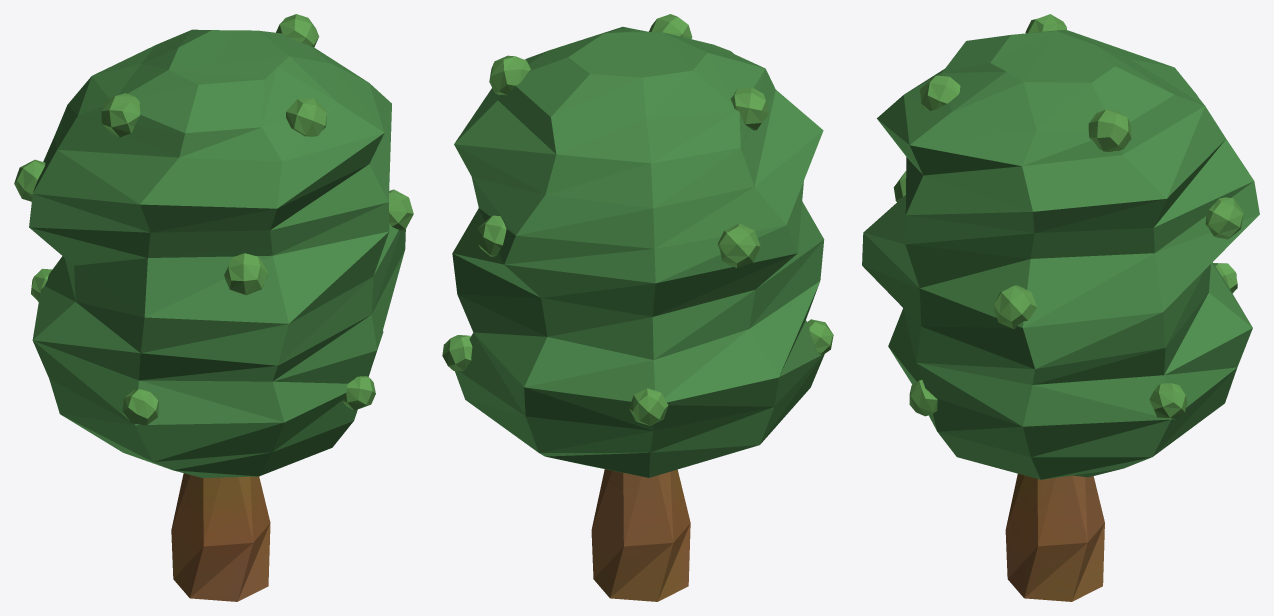
File: tree_c_764.gltf
3 renders of one model, left to right at view 1: azimuth 30°, elevation 25°; view 2: azimuth 150°, elevation 25°; view 3: azimuth 270°, elevation 25°, orthographic.
Visible parts, largest first — view 1: tree_c002; view 2: tree_c002; view 3: tree_c002.
Part boxes in pixels (<box>): tree_c002: <box>14,14,413,601</box>; tree_c002: <box>442,14,833,601</box>; tree_c002: <box>862,14,1259,601</box>.
Size of the model in its own units: 2.21 by 3.18 by 2.18.
1 material, 1 textured.
